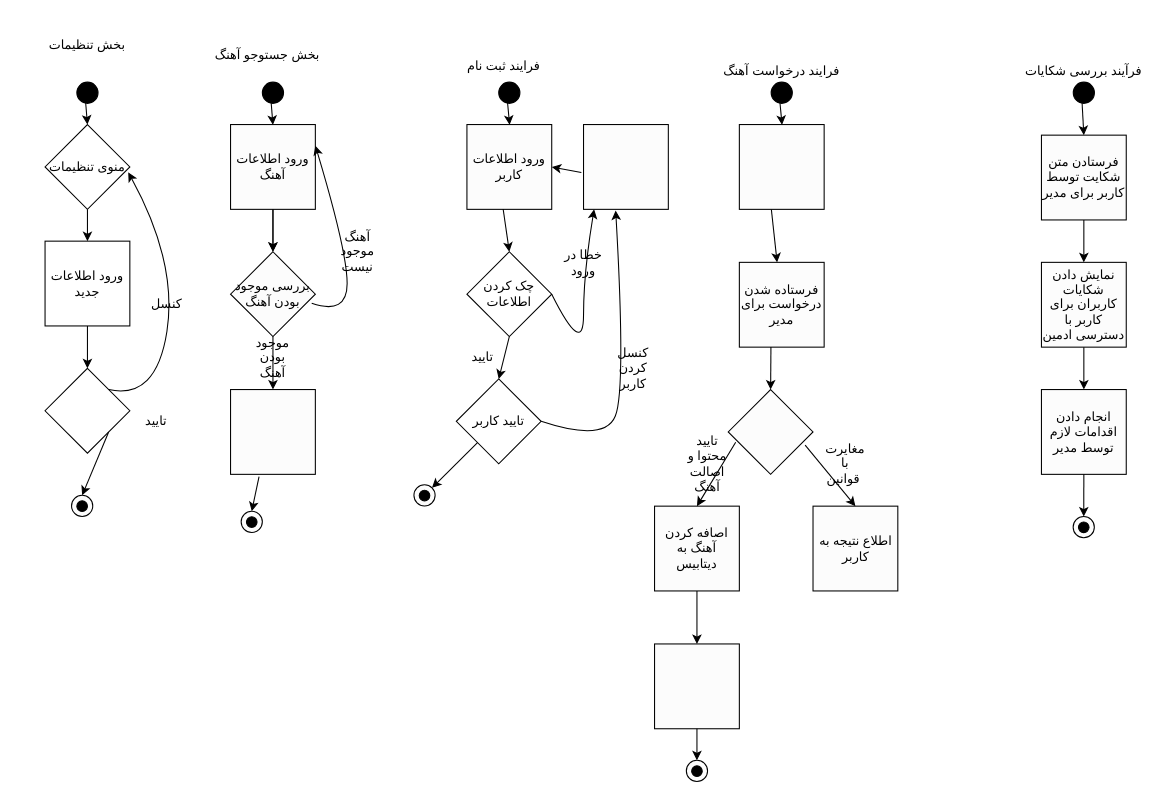
The diagram is 1170 pixels wide and 800 high, and some of its shapes have lost their labels. The shapes that lost their labels are listed below. From the top down, each one's box as (x1, y1, x2, y2) in pixels, then its label:
(582, 123, 668, 209): نمایش ارور مناسب
(738, 123, 824, 209): نمایش فرم مناسب و ورود اطلاعات توسط کاربر
(44, 367, 130, 453): تایید اطلاعات
(229, 388, 315, 474): نمایش و پخش آهنگ
(727, 388, 813, 474): بررسی آهنگ توسط مدیر
(653, 643, 739, 729): اطلاع به کاربر
